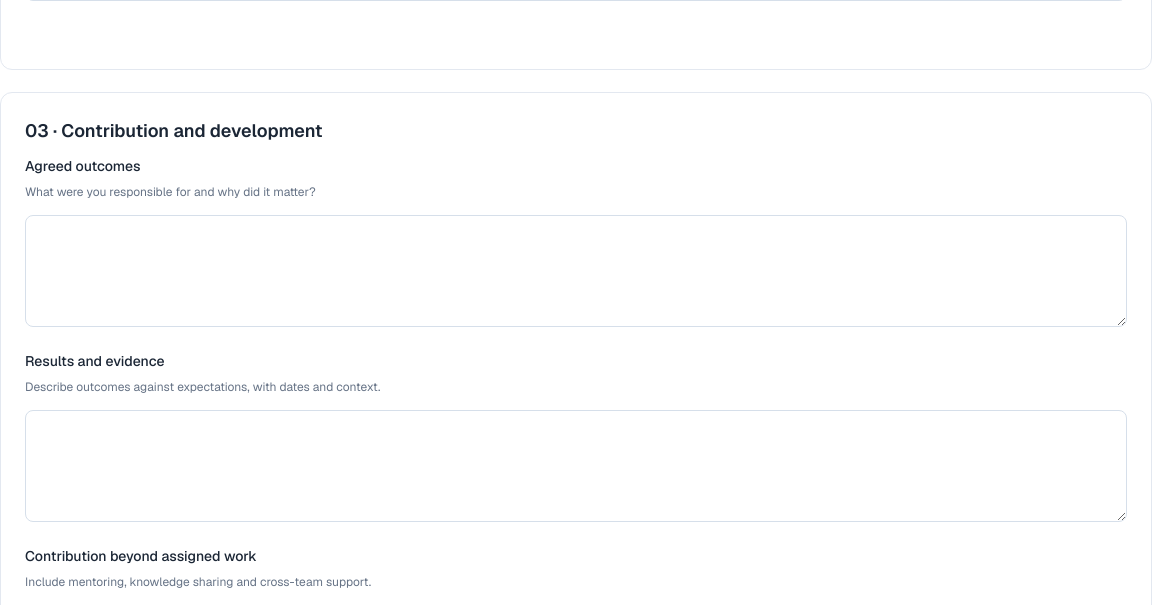
Test: Reflection draft safety › keeps unsaved text visible and stops background retries after a conflict
(page scrolled)
Step 1. Type "Preserve this local draft" into the text box labelled "Agreed outcomes" → [576, 271], box [25,215,1127,327]
Wait 16500 ms
(page scrolled)
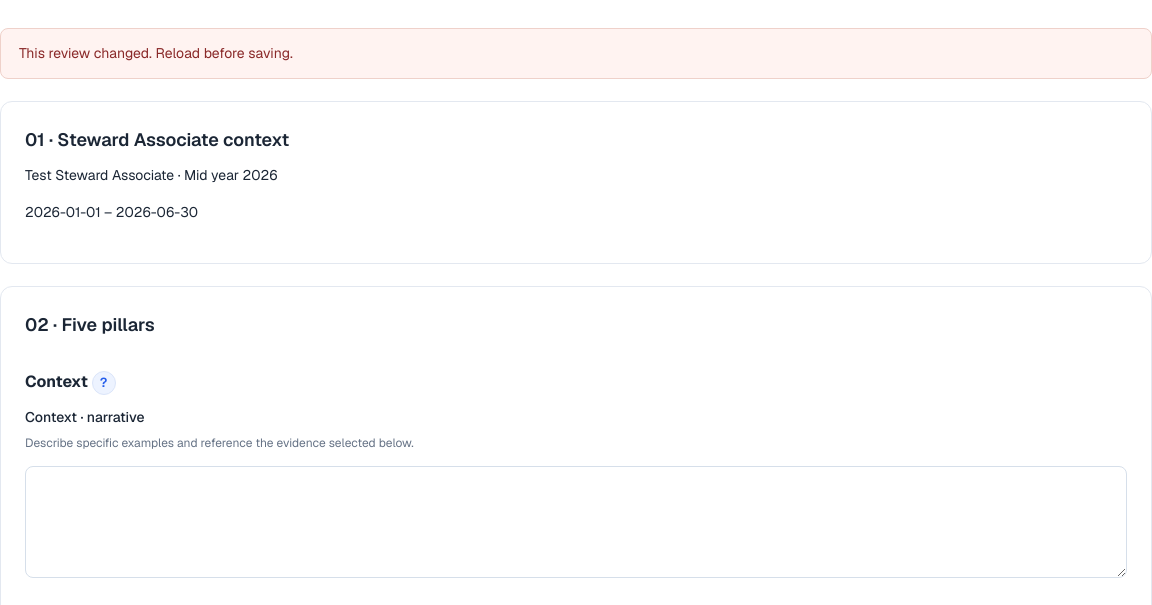
Result: the message "This review changed. Reload before saving." is shown at [0,28,1151,79]
